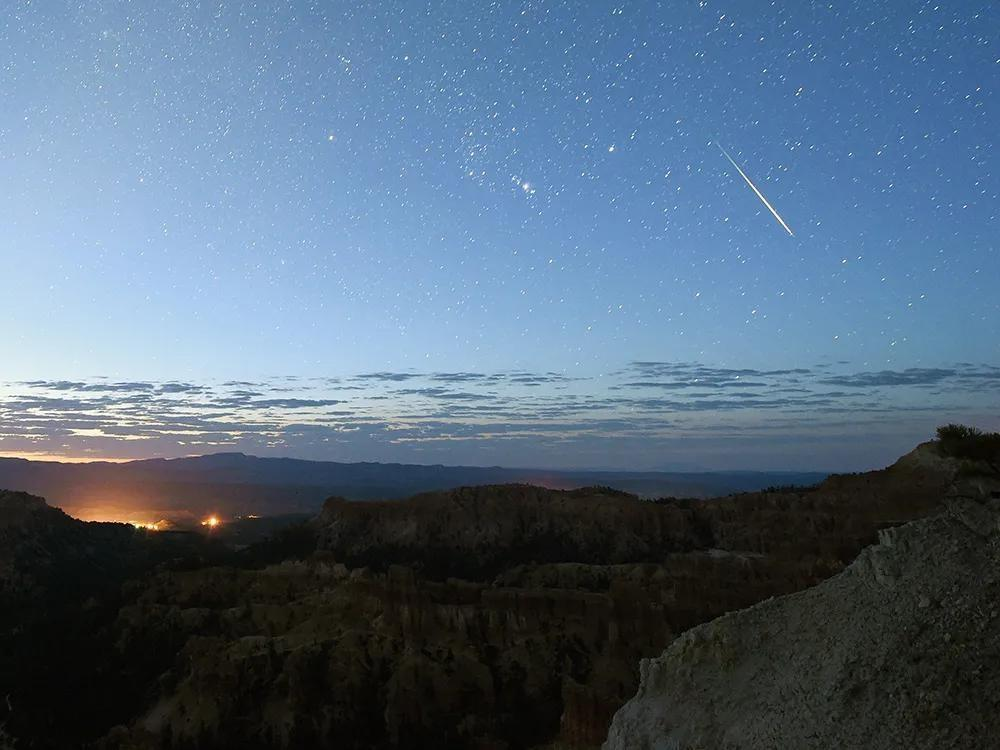meteorite: (708, 154, 814, 243)
